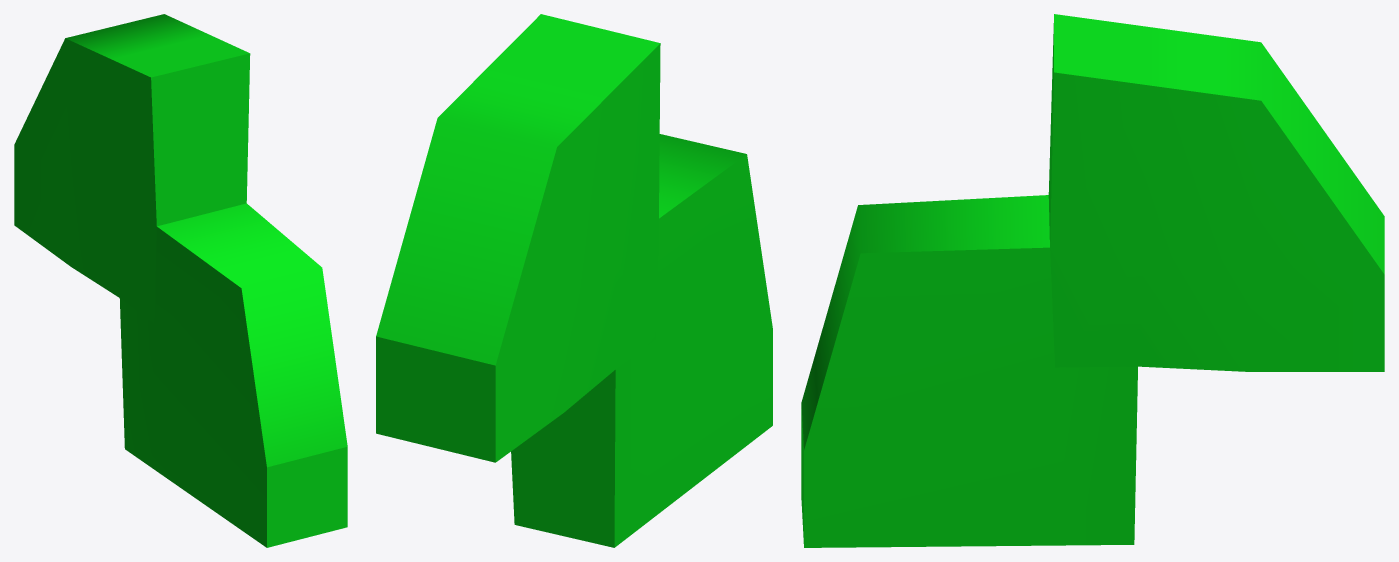
The model's file is Wall_Temple_Brick_02_Collider.fbx.
3 renders of one model, left to right at view 1: azimuth 30°, elevation 25°; view 2: azimuth 150°, elevation 25°; view 3: azimuth 270°, elevation 25°, orthographic. The views are drawn at different scales.
Parts seen in each view (by area): view 1: Wall_Temple_Brick_02_Collider; view 2: Wall_Temple_Brick_02_Collider; view 3: Wall_Temple_Brick_02_Collider.
Boxes of the visible parts, box(x1,y1,x2,y2) form: Wall_Temple_Brick_02_Collider: box(14, 14, 347, 547); Wall_Temple_Brick_02_Collider: box(376, 14, 772, 547); Wall_Temple_Brick_02_Collider: box(801, 14, 1384, 547).
Size of the model in its own units: 364 by 1393 by 1536.
